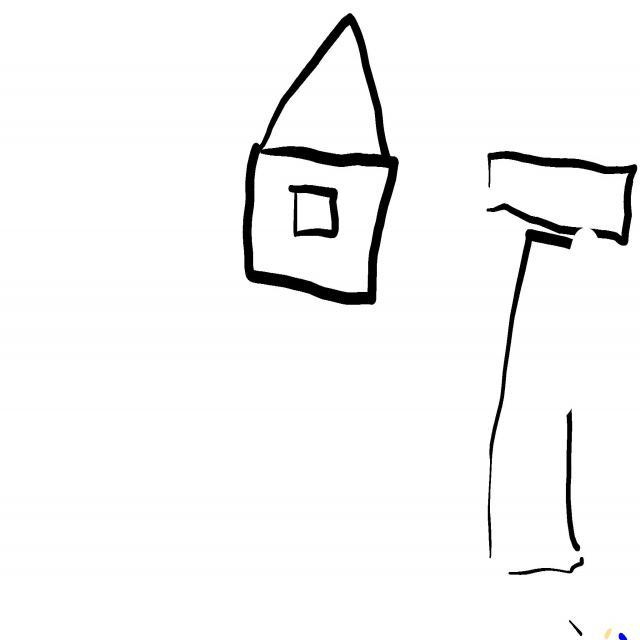house: (244, 15, 398, 304)
roof: (259, 16, 393, 159)
wall: (247, 153, 399, 296)
window: (298, 194, 332, 230)
